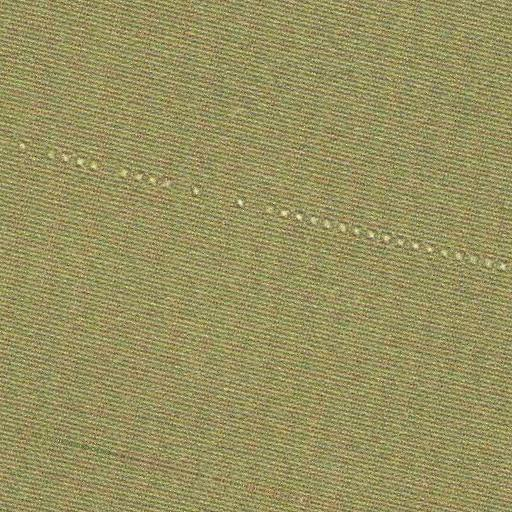slub: (12, 126, 509, 289)
